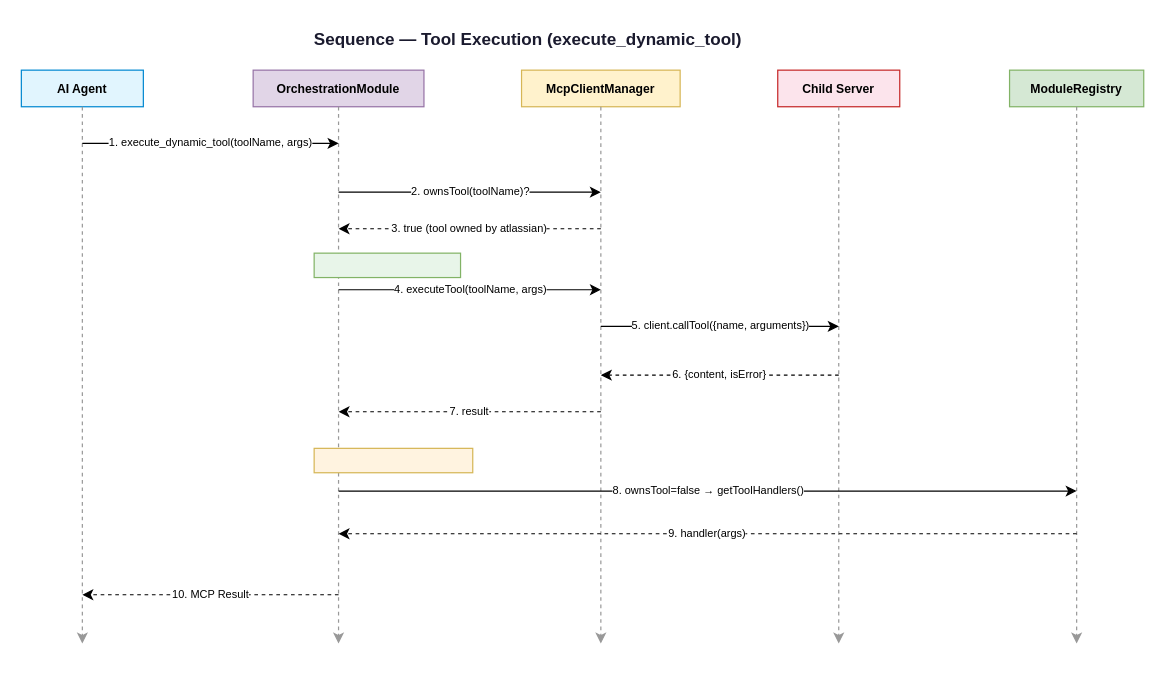
This 1165x675 diagram has some shape labels left out. Each missing label, with the centre of its shape:
"[child server path]" belongs at [387,265].
"[internal fallback path]" belongs at [393,460].
